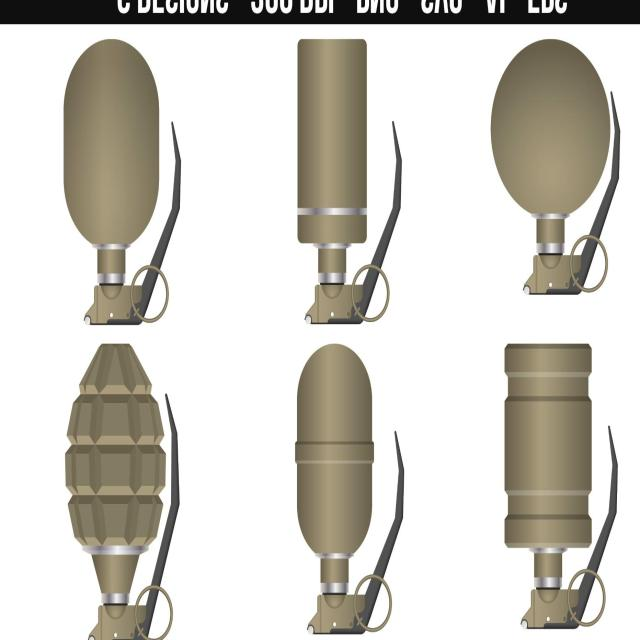grenade: (64, 41, 182, 327), (66, 343, 179, 640), (505, 347, 619, 635), (493, 40, 620, 298), (296, 344, 404, 637), (297, 41, 403, 328)
